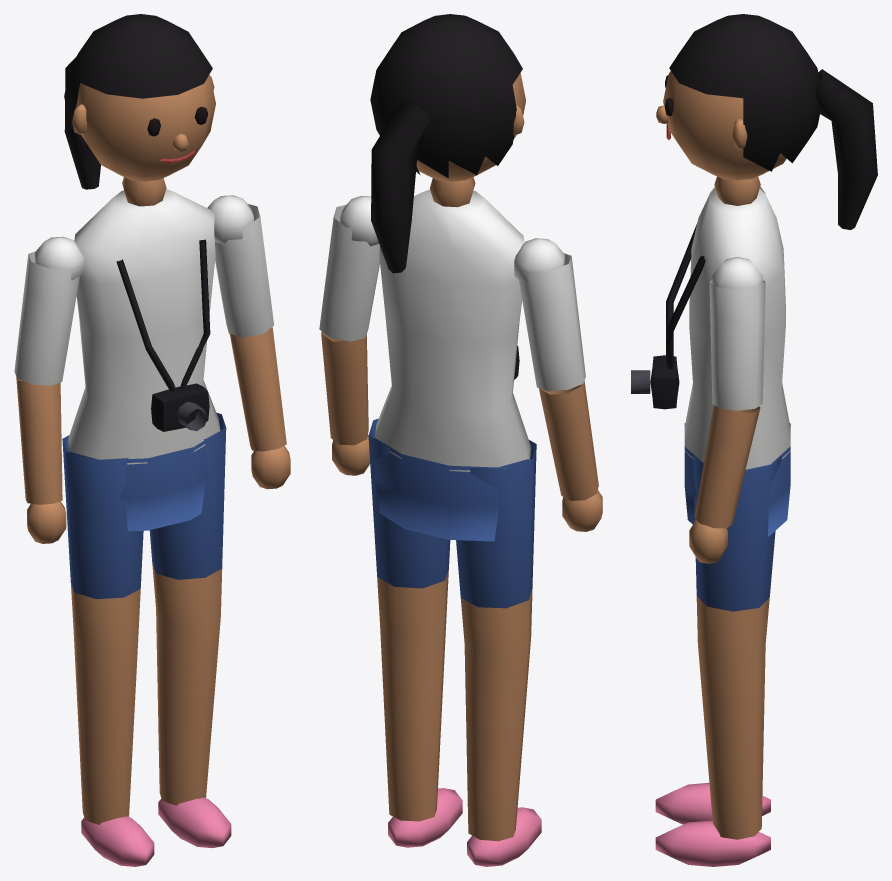
The model's file is Guest_YoungWoman.obj.
3 views of the same model, side by side, from view 1: azimuth 30°, elevation 25°; view 2: azimuth 150°, elevation 25°; view 3: azimuth 270°, elevation 25° (orthographic). The views are drawn at different scales.
Visible parts, largest first — view 1: Torso, LegR, LegL, Head, ArmR, ArmL; view 2: Torso, Head, LegR, LegL, ArmR, ArmL; view 3: Head, LegL, Torso, ArmL, LegR.
Boxes of the visible parts, box(x1,y1,x2,y2) form: Torso: box(67, 177, 220, 531); LegR: box(62, 435, 154, 866); LegL: box(149, 412, 231, 848); Head: box(64, 14, 215, 189); ArmR: box(14, 236, 83, 543); ArmL: box(207, 195, 290, 489); Torso: box(374, 177, 531, 541); Head: box(370, 14, 525, 273); LegR: box(456, 440, 541, 866); LegL: box(368, 418, 462, 847); ArmR: box(514, 238, 602, 531); ArmL: box(319, 196, 379, 475); Head: box(656, 14, 877, 229); LegL: box(655, 453, 781, 866); Torso: box(631, 176, 790, 536); ArmL: box(689, 257, 765, 563); LegR: box(655, 783, 770, 824).
Bounding box in the file's own units: 0.5852 × 1.75 × 0.4755.
Materials: 1 (1 with a texture image).
